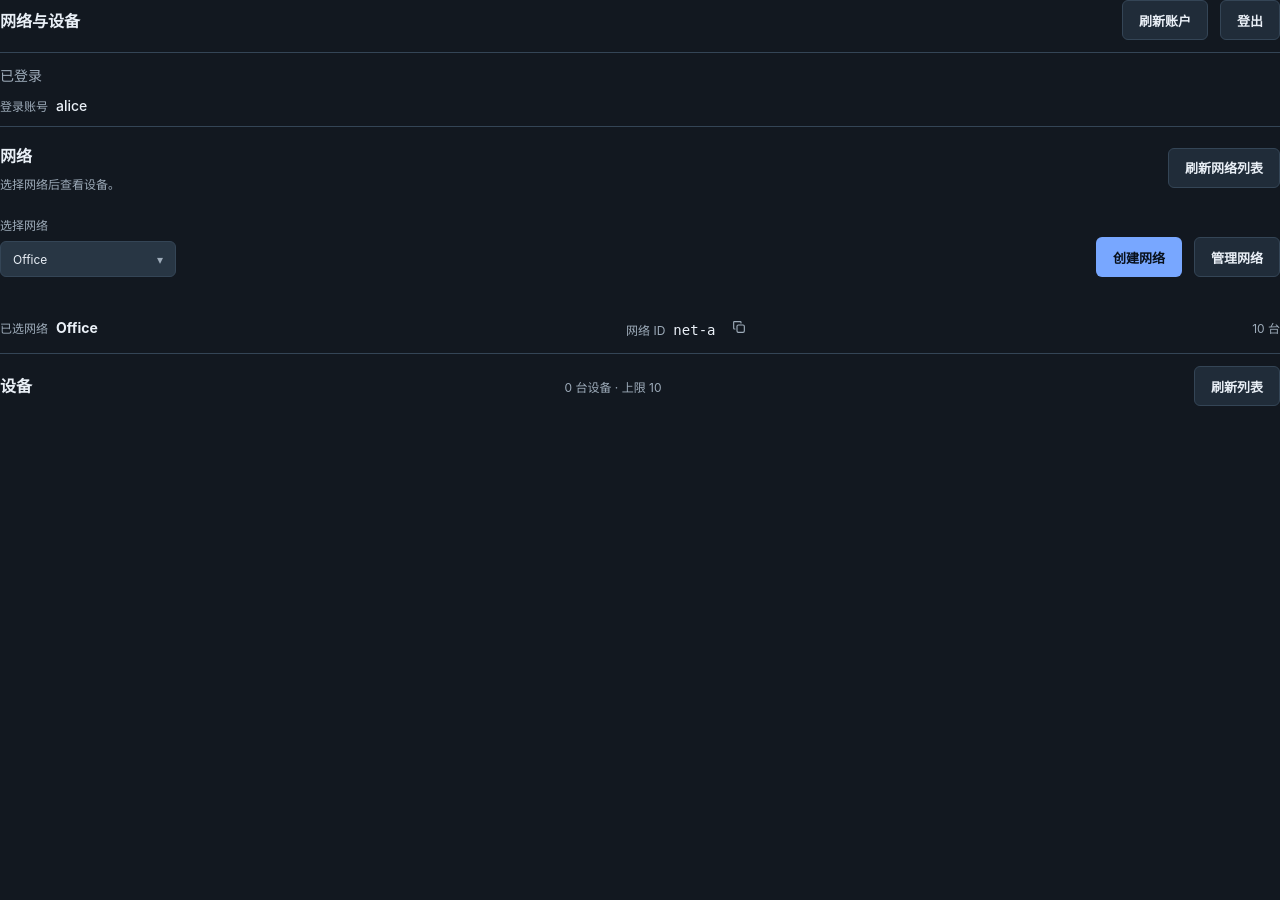
Test: P2P account public controls (component diagnostics) › P2P network device capacity control › raises an owned network limit through the dedicated control and applies the readback
Step 1. Click the button with test id "p2p-network-manage-open" → (1237, 257), box [1194,237,1279,277]
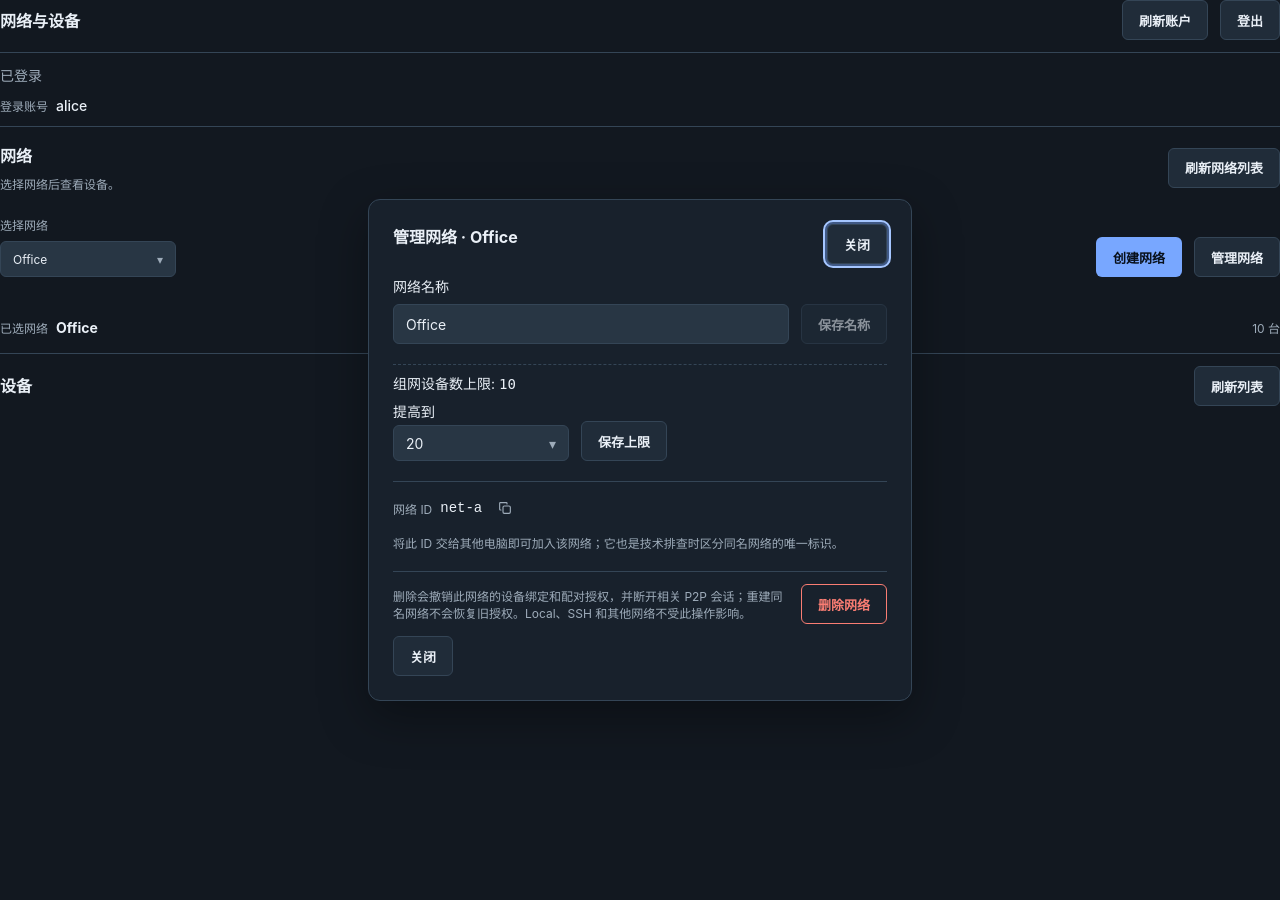
Check: the element with test id "p2p-network-limit" shows "10", box [499,376,516,392]
The themed listbox renders its rows on open, so the trigger is opened first.
Step 2. Click the dropdown with test id "p2p-limit" → (481, 443), box [393,425,569,461]
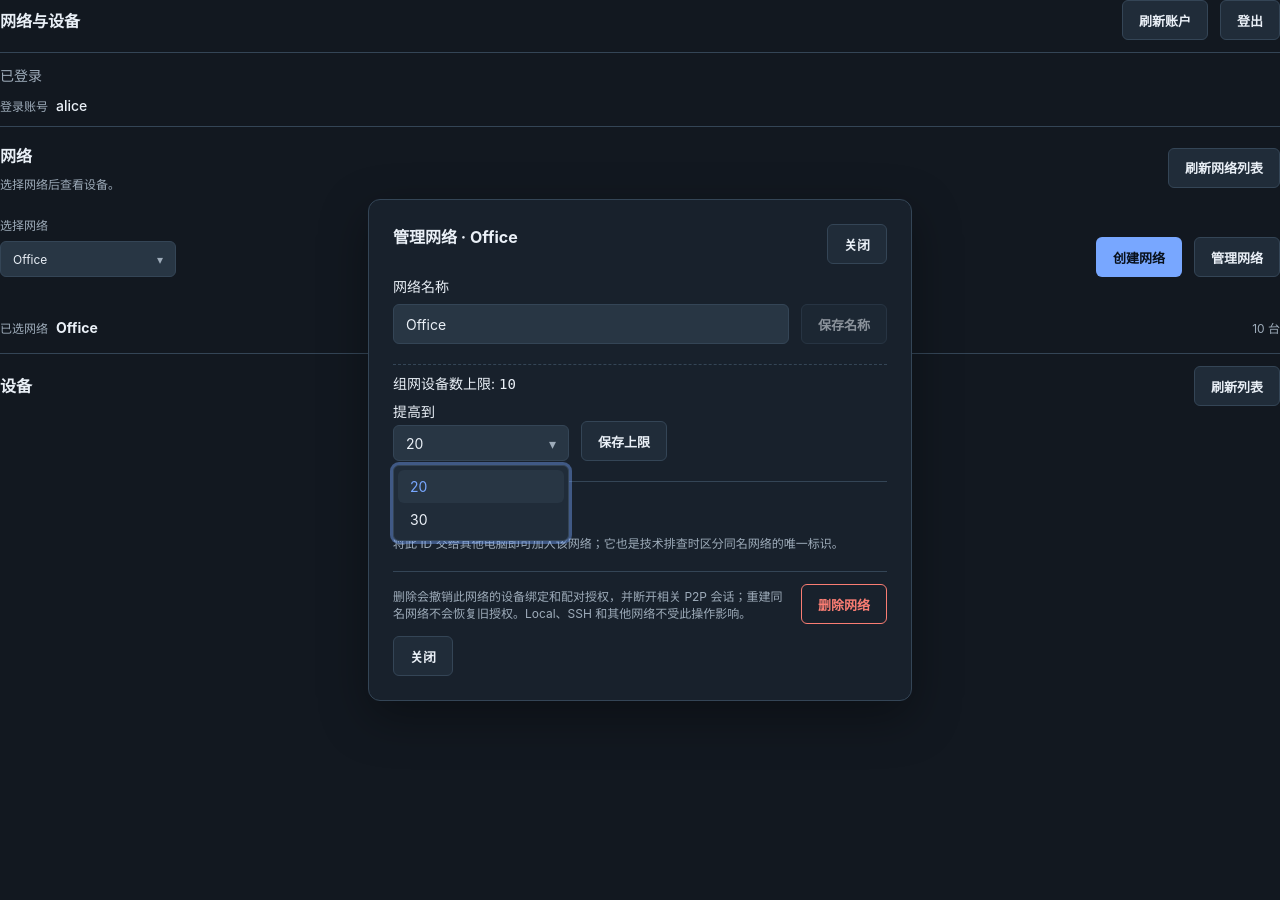
Step 3. Click the button with test id "p2p-limit-save" → (624, 441), box [581,421,667,461]
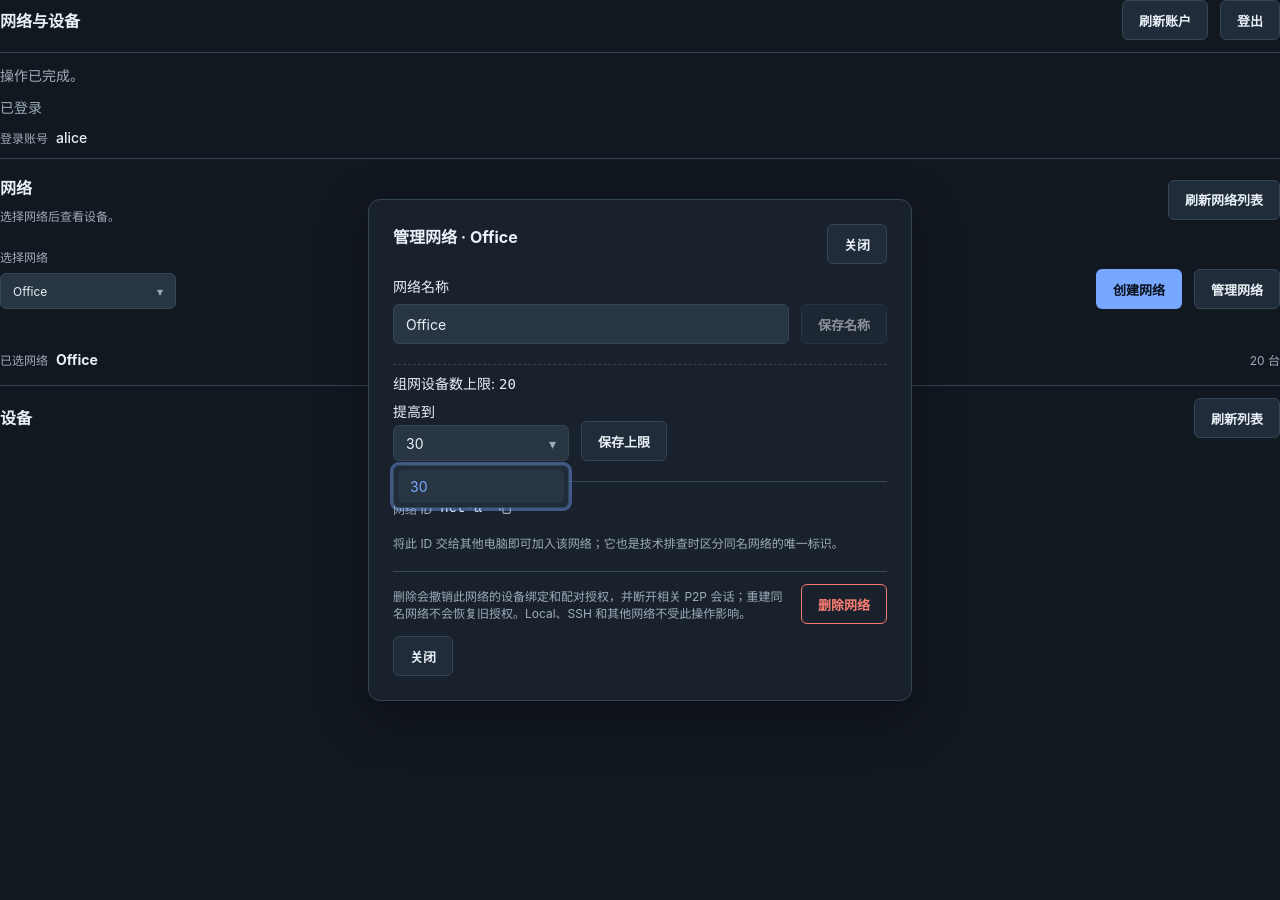
Check: the element with test id "p2p-network-limit" shows "20", box [499,376,516,392]
